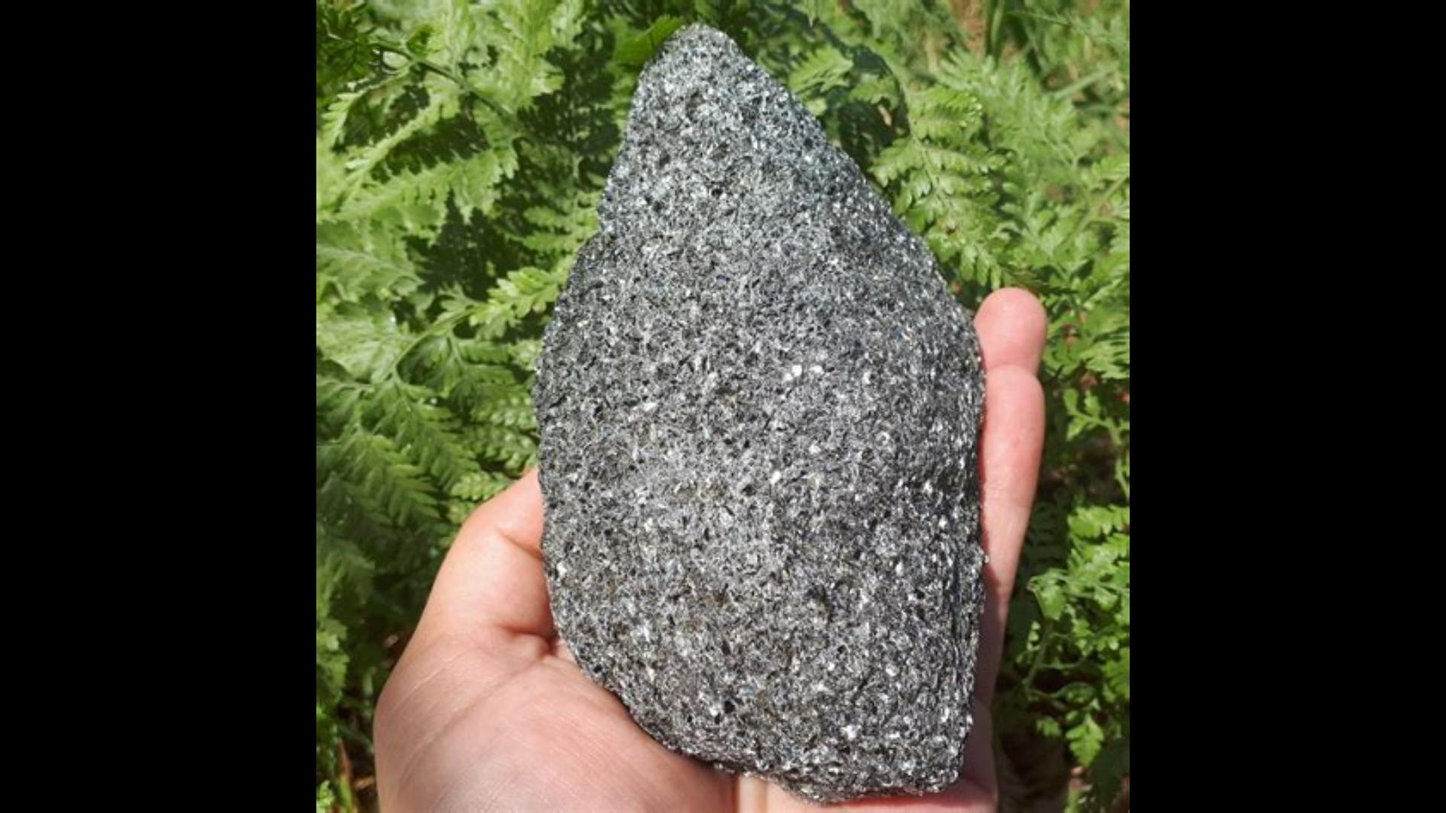rock: (539, 27, 982, 798)
